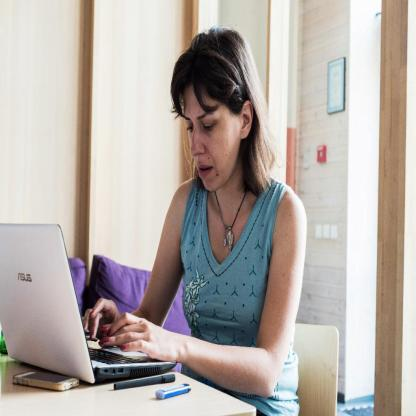board: (0, 223, 177, 384)
